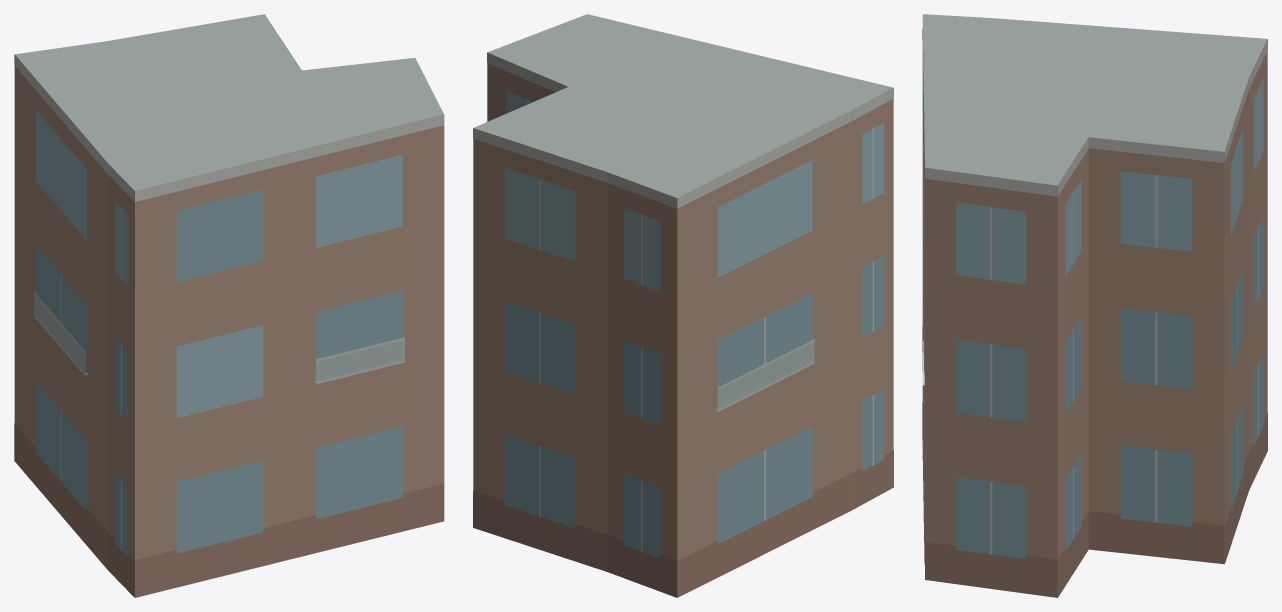
File: survey-upis-32467114.glb
The picture shows the model from 3 angles, left to right: view 1: azimuth 30°, elevation 25°; view 2: azimuth 150°, elevation 25°; view 3: azimuth 270°, elevation 25°; orthographic projection. The views are drawn at different scales.
Parts seen in each view (by area): view 1: survey-upis-32467114.tmp; view 2: survey-upis-32467114.tmp; view 3: survey-upis-32467114.tmp.
Boxes of the visible parts, x1=… form: survey-upis-32467114.tmp: x1=14, y1=14, x2=444, y2=597; survey-upis-32467114.tmp: x1=473, y1=14, x2=893, y2=597; survey-upis-32467114.tmp: x1=922, y1=14, x2=1267, y2=597.
Size of the model in its own units: 8.18 by 9.15 by 6.96.
